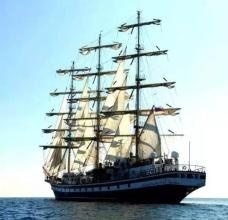fanchuan: (37, 20, 207, 204)
